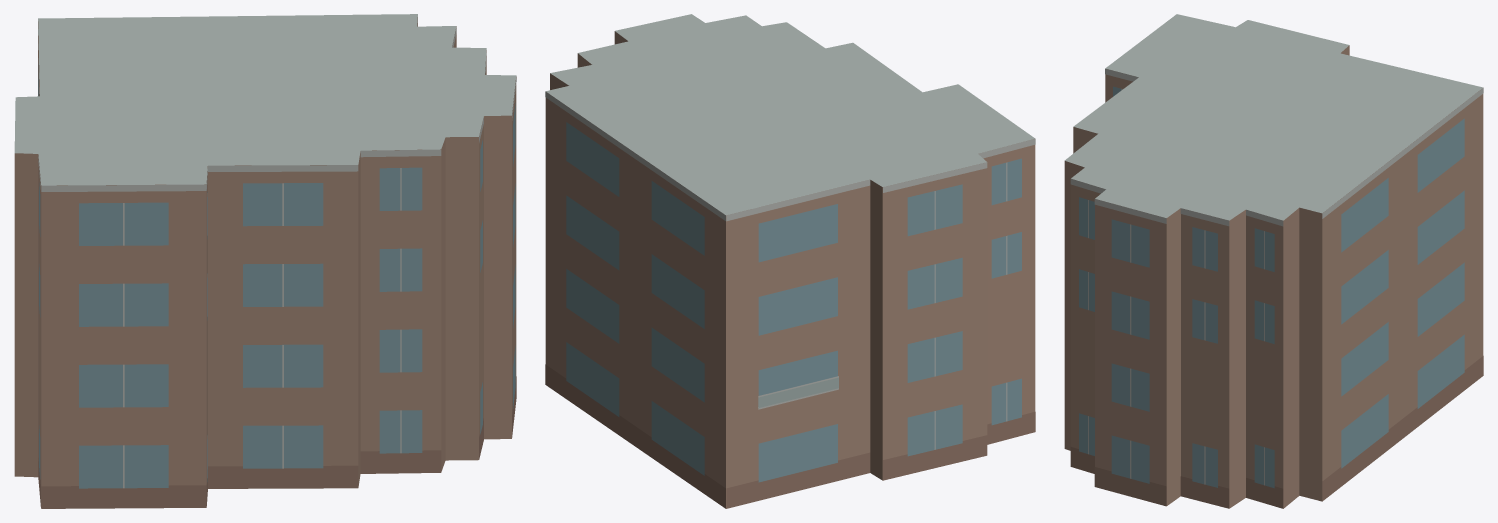
The model's file is survey-upis-32667996.glb.
The picture shows the model from 3 angles, left to right: view 1: azimuth 30°, elevation 25°; view 2: azimuth 150°, elevation 25°; view 3: azimuth 270°, elevation 25°; orthographic projection. The views are drawn at different scales.
Visible parts, largest first — view 1: survey-upis-32667996.tmp; view 2: survey-upis-32667996.tmp; view 3: survey-upis-32667996.tmp.
Boxes of the visible parts, x1,y1,x2,y2 form: survey-upis-32667996.tmp: (14, 14, 516, 508); survey-upis-32667996.tmp: (545, 14, 1035, 508); survey-upis-32667996.tmp: (1064, 14, 1483, 508).
Bounding box in the file's own units: 18.47 × 12 × 15.82.
